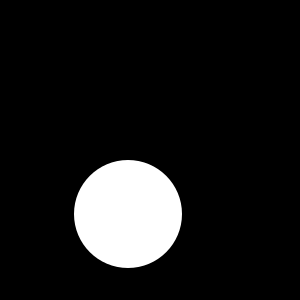rectangle: (74, 160, 182, 268)
